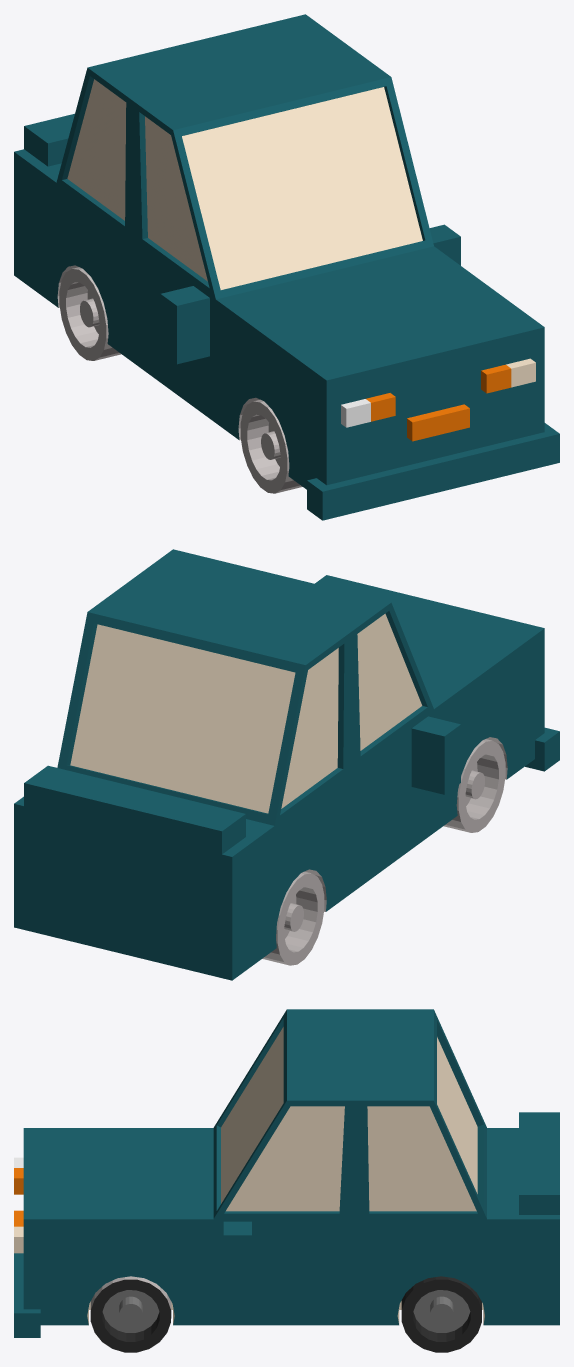
The model's file is DesignCarGüncel.fbx.
3 views of the same model, one above another, from view 1: azimuth 30°, elevation 25°; view 2: azimuth 150°, elevation 25°; view 3: azimuth 270°, elevation 25° (orthographic). The views are drawn at different scales.
Visible parts, largest first — view 1: Plane.001; view 2: Plane.001; view 3: Plane.001.
Boxes of the visible parts, x1,y1,x2,y2 form: Plane.001: (14, 14, 559, 520); Plane.001: (14, 549, 559, 980); Plane.001: (14, 1009, 559, 1352).
Size of the model in its own units: 115 by 222 by 113.
